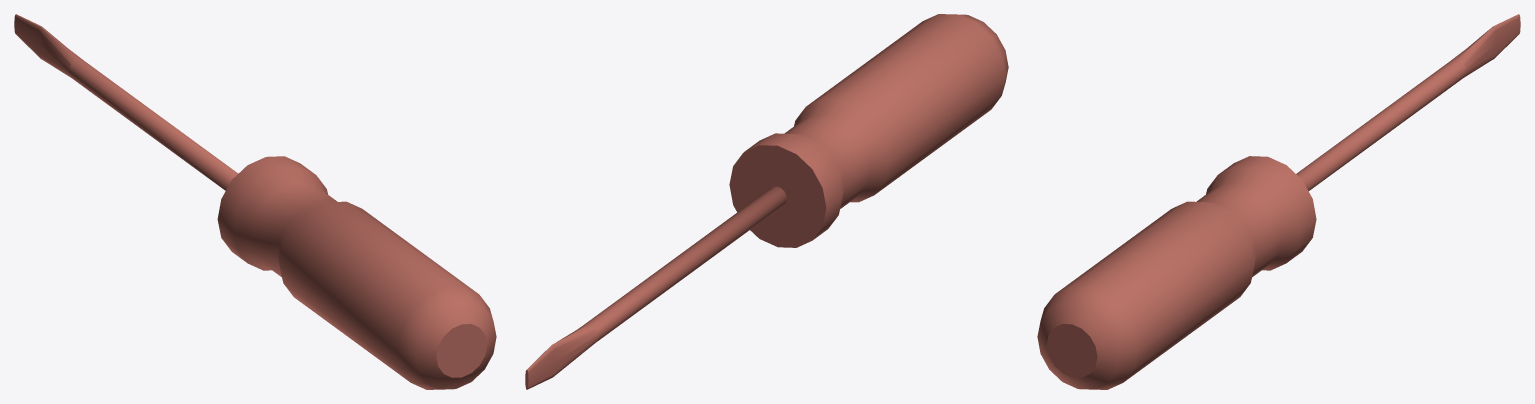
File: screwdriver.glb
3 renders of one model, left to right at view 1: azimuth 30°, elevation 25°; view 2: azimuth 150°, elevation 25°; view 3: azimuth 330°, elevation 25°, orthographic.
Visible parts, largest first — view 1: Cylinder001; view 2: Cylinder001; view 3: Cylinder001.
Boxes of the visible parts, x1,y1,x2,y2 form: Cylinder001: [14, 14, 496, 389]; Cylinder001: [525, 14, 1008, 389]; Cylinder001: [1037, 14, 1520, 389].
Size of the model in its own units: 0.025 by 0.025 by 0.1994.
